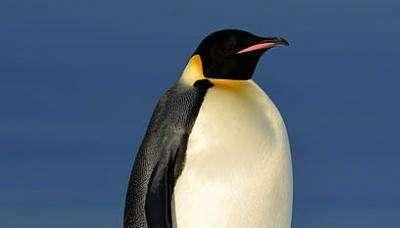Emperor Penguin: (94, 16, 297, 228)
